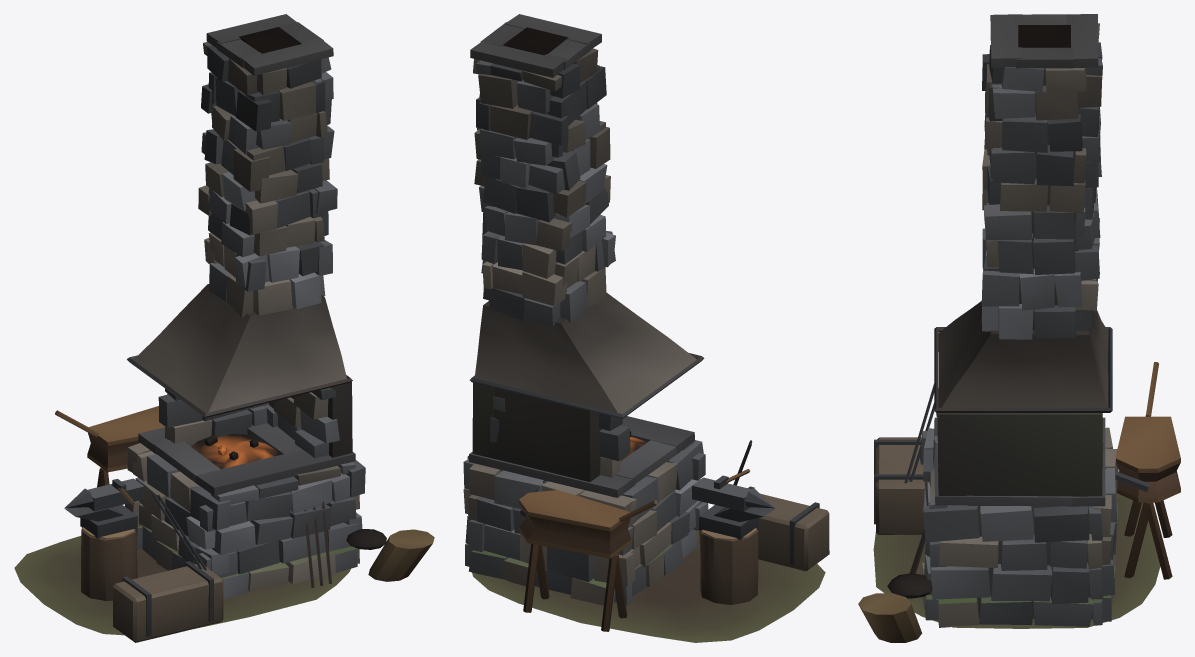
Rendered from ph_bld_forge.glb.
The picture shows the model from 3 angles, left to right: view 1: azimuth 30°, elevation 25°; view 2: azimuth 150°, elevation 25°; view 3: azimuth 270°, elevation 25°; orthographic projection. The views are drawn at different scales.
Parts seen in each view (by area): view 1: ph_bld_forge; view 2: ph_bld_forge; view 3: ph_bld_forge.
Boxes of the visible parts, left/top/right/bottom form: ph_bld_forge: left=14, top=14, right=434, bottom=642; ph_bld_forge: left=463, top=14, right=829, bottom=642; ph_bld_forge: left=858, top=14, right=1180, bottom=642.
Size of the model in its own units: 2.62 by 3.83 by 1.97.
